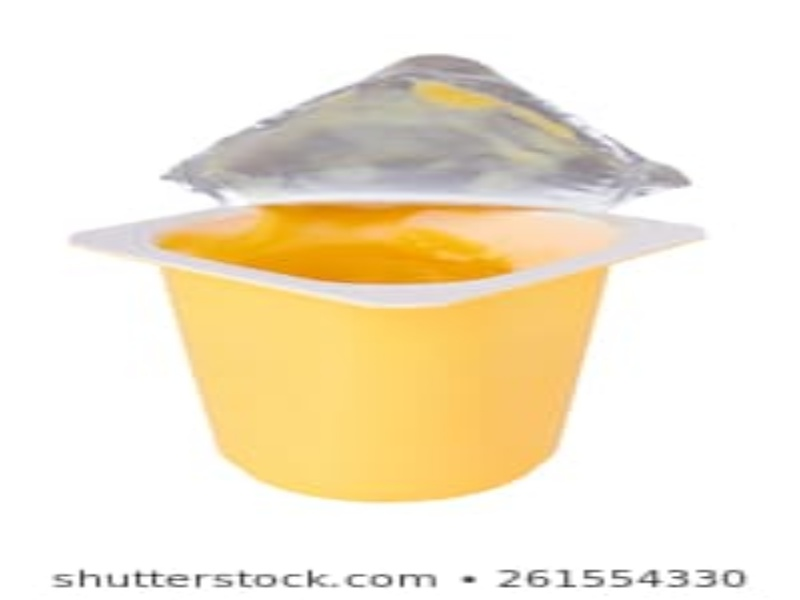yogurt-cup: (61, 196, 722, 508)
